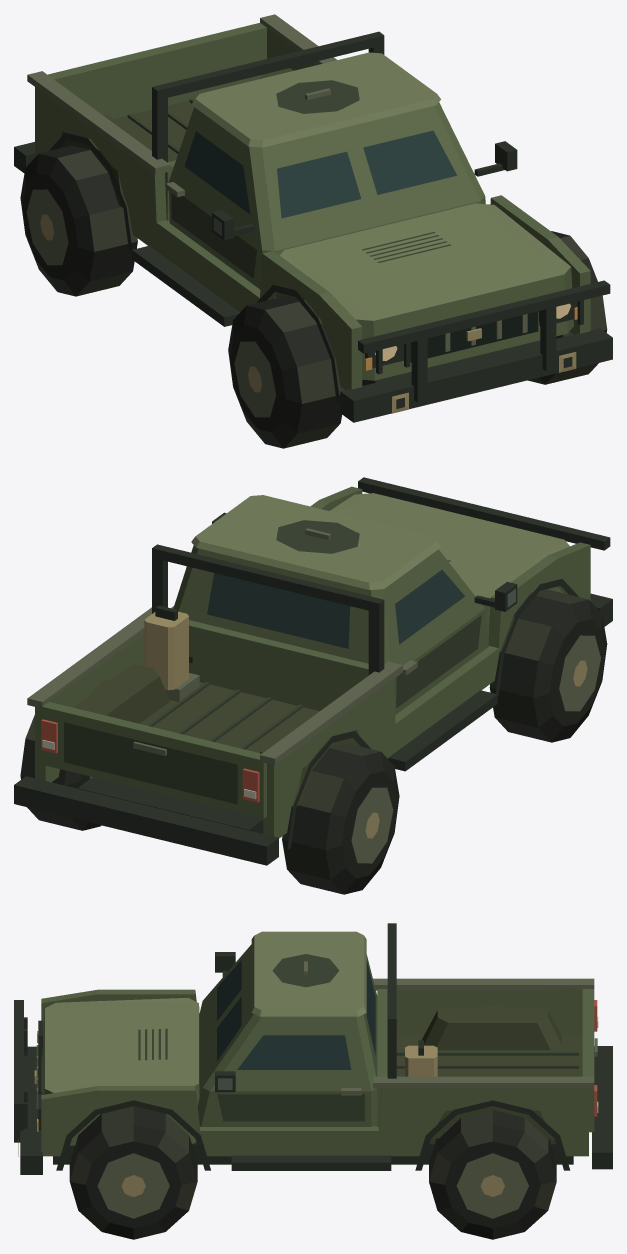
File: military_pickup.glb
3 views of the same model, one above another, from view 1: azimuth 30°, elevation 25°; view 2: azimuth 150°, elevation 25°; view 3: azimuth 270°, elevation 25° (orthographic). The views are drawn at different scales.
Visible parts, largest first — view 1: PICKUP_BODY, WHEEL_FRONT_LEFT, WHEEL_REAR_LEFT, WHEEL_FRONT_RIGHT; view 2: PICKUP_BODY, WHEEL_FRONT_LEFT, WHEEL_REAR_LEFT, WHEEL_REAR_RIGHT; view 3: PICKUP_BODY, WHEEL_FRONT_RIGHT, WHEEL_REAR_RIGHT.
Part boxes in pixels (x1,y1,x2,y2): PICKUP_BODY: (14,14,612,422); WHEEL_FRONT_LEFT: (228,295,344,448); WHEEL_REAR_LEFT: (20,145,137,296); WHEEL_FRONT_RIGHT: (527,231,607,384); PICKUP_BODY: (14,477,612,865); WHEEL_FRONT_LEFT: (489,589,607,742); WHEEL_REAR_LEFT: (282,743,399,894); WHEEL_REAR_RIGHT: (20,715,101,830); PICKUP_BODY: (14,923,612,1174); WHEEL_FRONT_RIGHT: (69,1106,197,1239); WHEEL_REAR_RIGHT: (429,1110,556,1239).
Size of the model in its own units: 3.58 by 2.54 by 6.61.
1 material, 1 textured.
